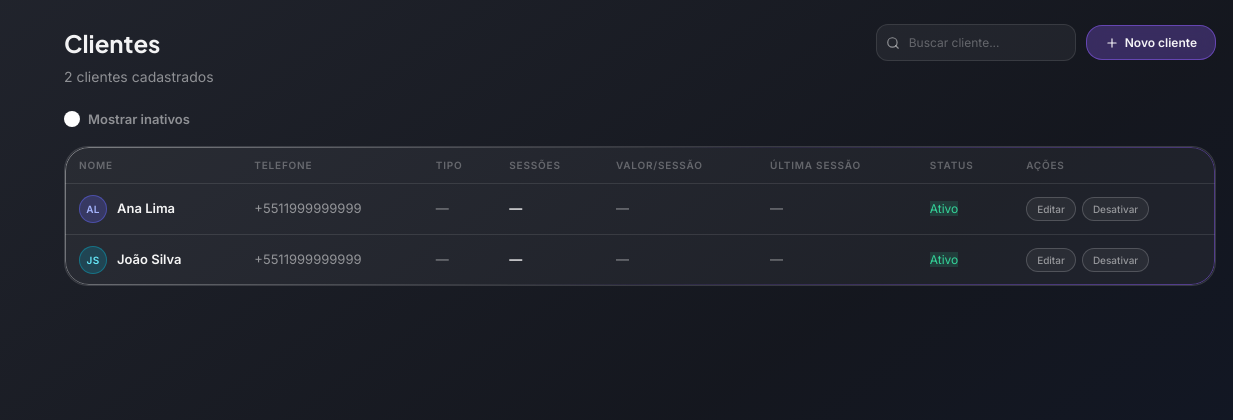
Test case: ClientsPage › busca filtra a lista após o debounce de 300 ms
Expected: the text "João Silva" is shown, [117,249,182,270]
Expected: the text "Ana Lima" is shown, [117,198,175,219]
Type "Ana" into the search field labelled "Buscar cliente..." at (976, 43), box [876,24,1076,61]
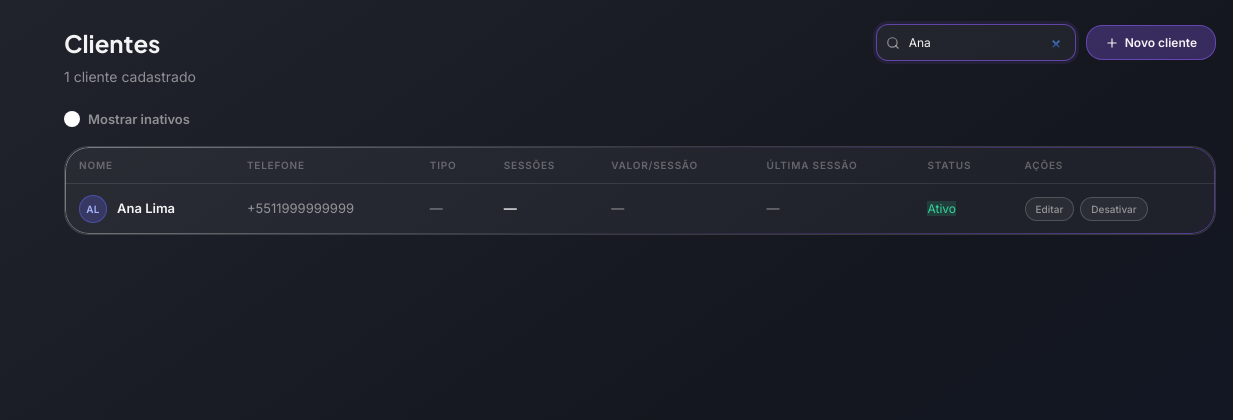
Expected: the text "Ana Lima" is shown, [117,198,175,219]
Result: the text "João Silva" is gone
